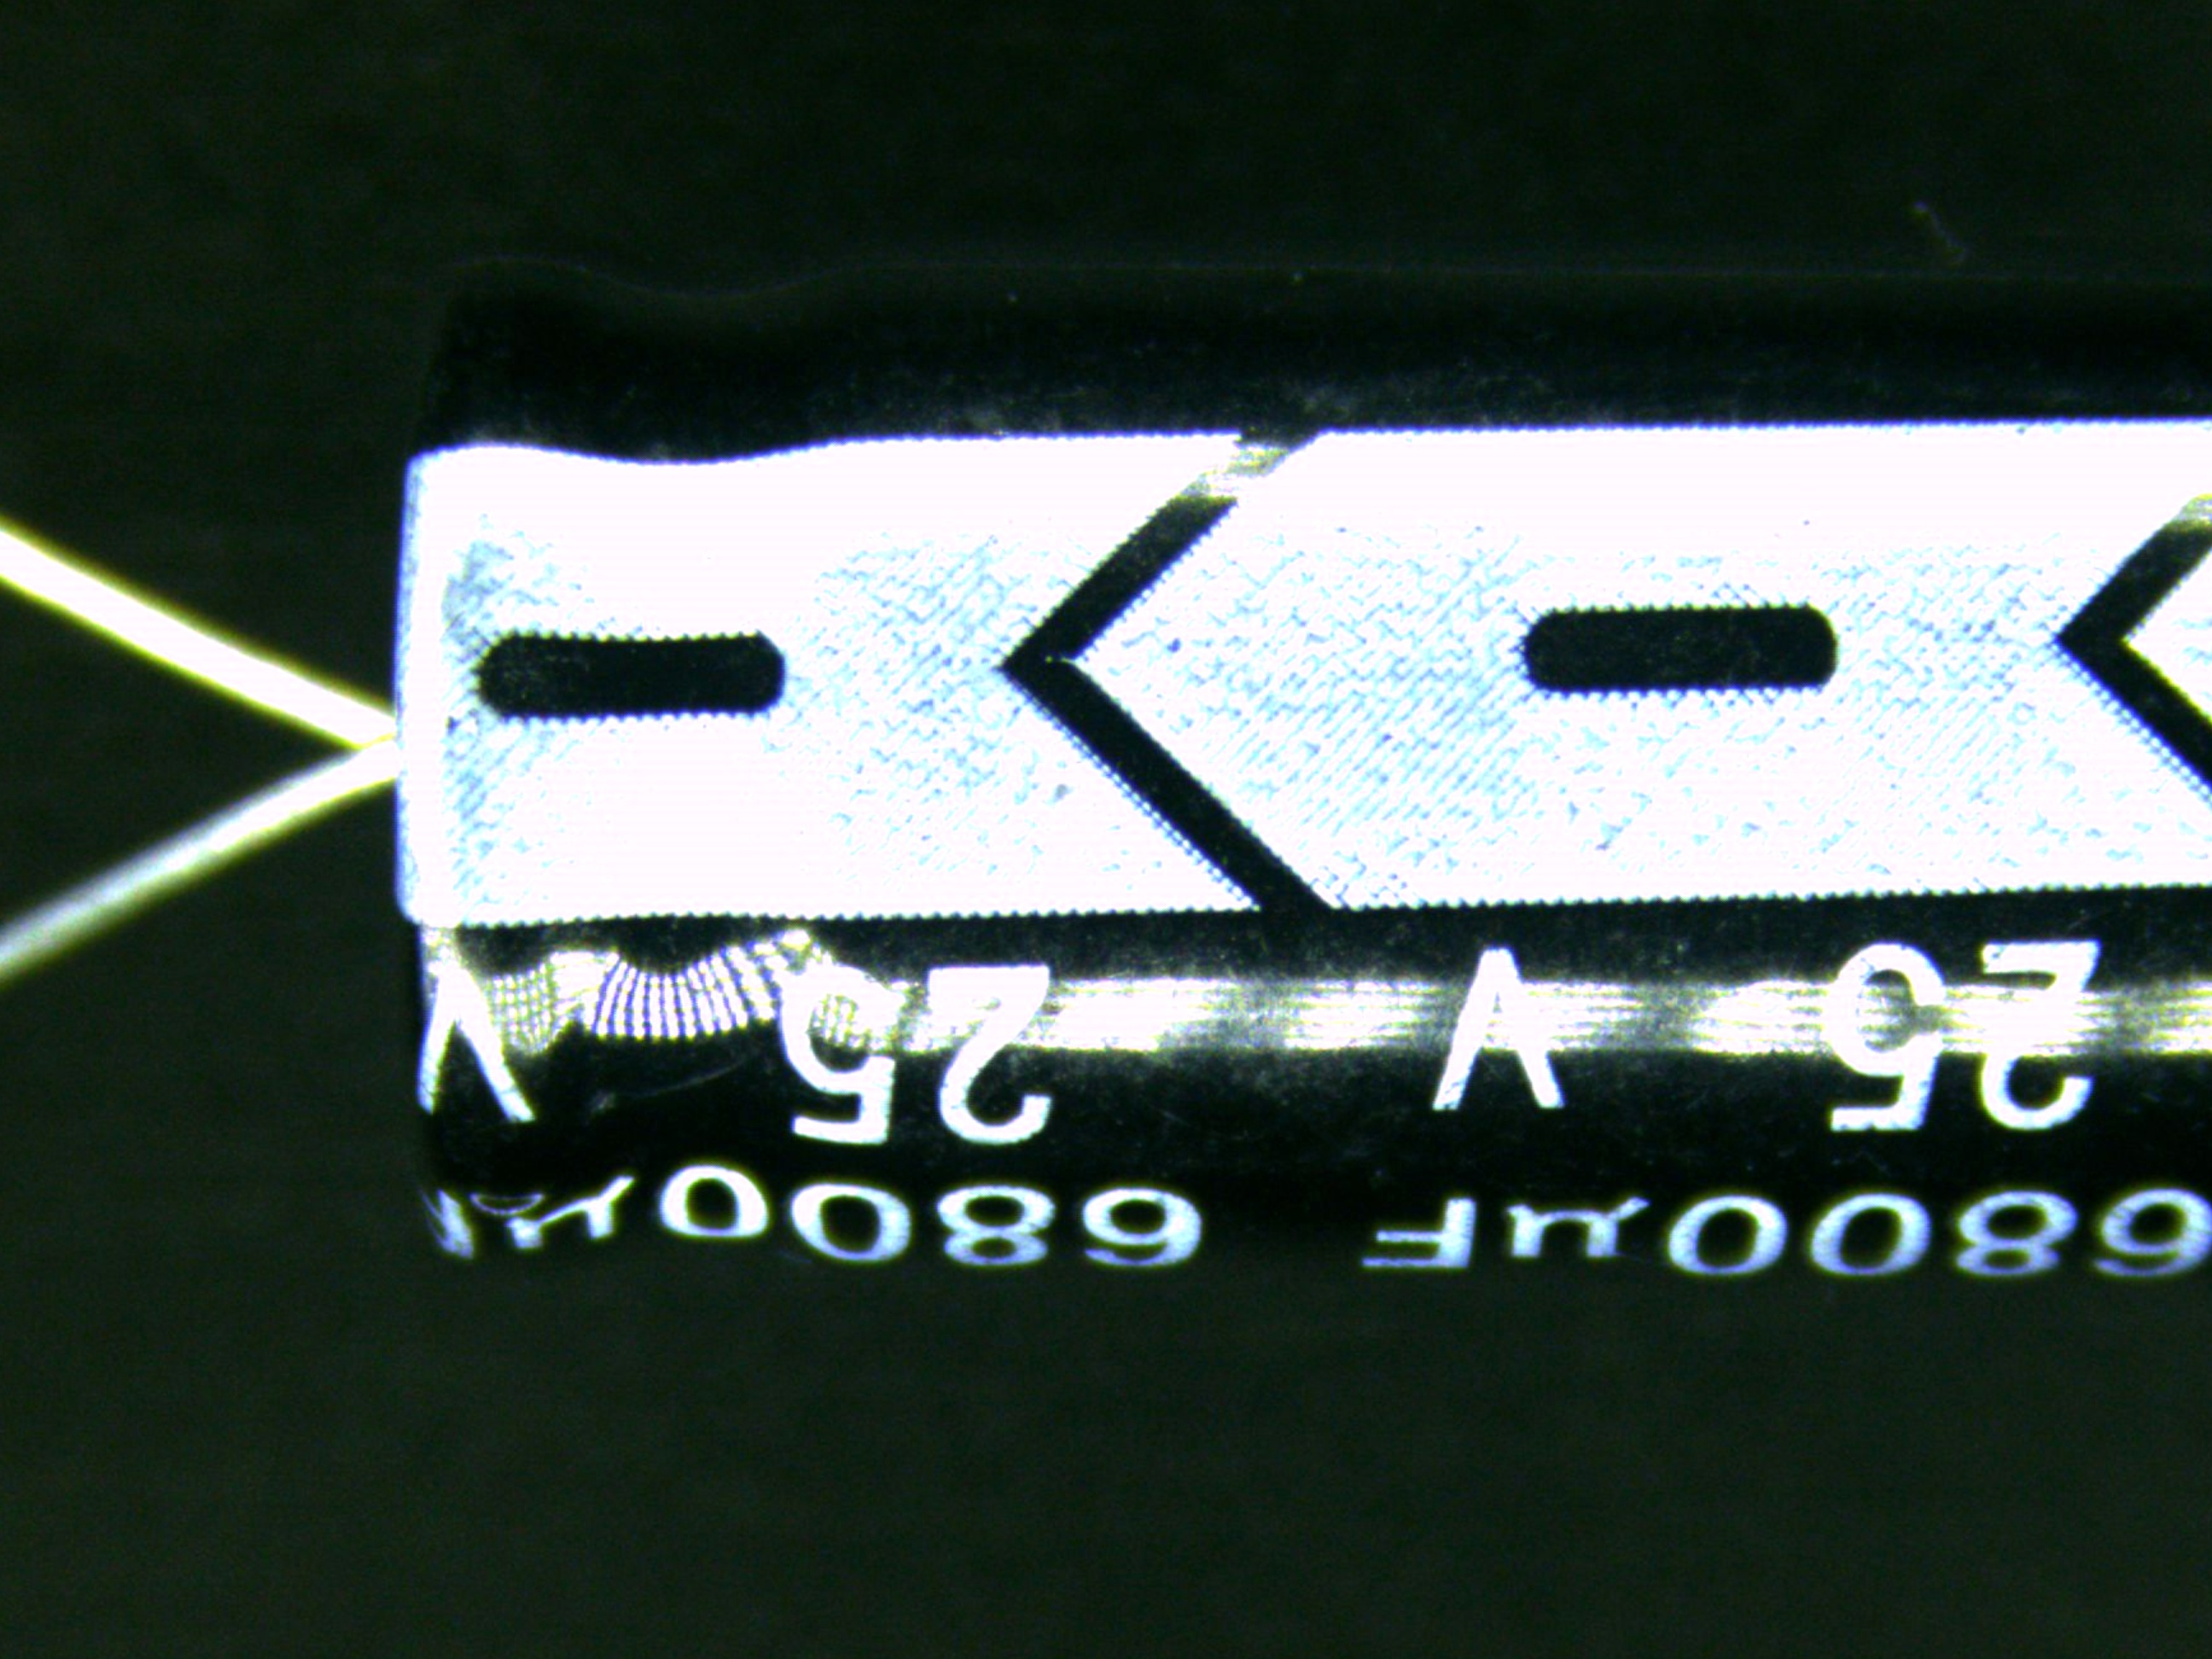c3: (0, 218, 2212, 1312)
